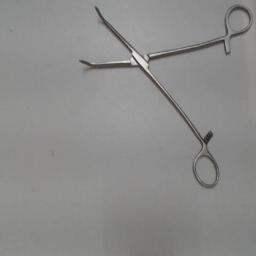Lahey Forceps: (74, 2, 254, 192)
